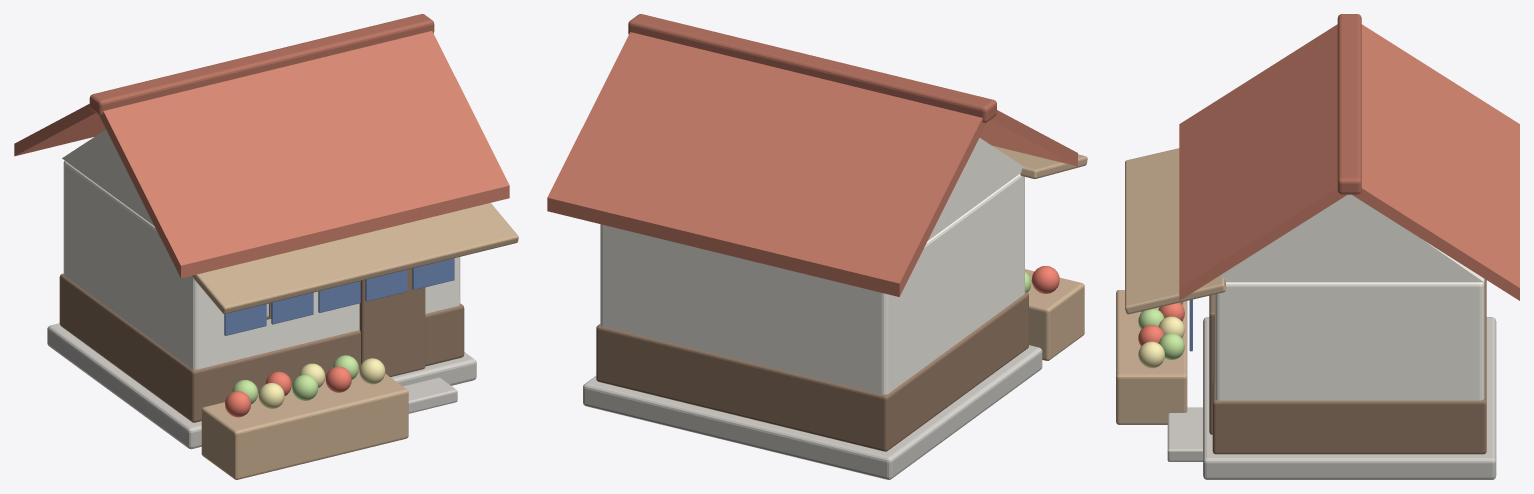
The model's file is shop.glb.
3 views of the same model, side by side, from view 1: azimuth 30°, elevation 25°; view 2: azimuth 150°, elevation 25°; view 3: azimuth 270°, elevation 25° (orthographic). The views are drawn at different scales.
Visible parts, largest first — view 1: shop; view 2: shop; view 3: shop.
Part boxes in pixels (left/top/right/bottom): shop: left=14, top=14, right=518, bottom=479; shop: left=547, top=14, right=1087, bottom=479; shop: left=1116, top=14, right=1519, bottom=479.
Bounding box in the file's own units: 5 × 4.36 × 5.1.
